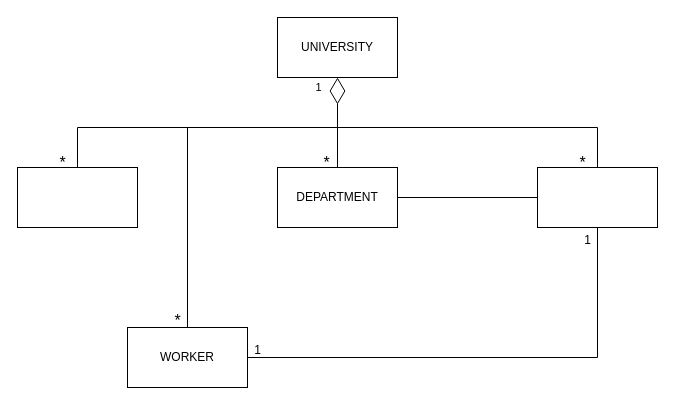
Image size: 675x405. Some labels were removed from this diagram. Here are the shapes that lost their labels. From the top down, the box of each, then its label:
(16, 166, 138, 228): CLASS
(536, 166, 658, 228): OFFICE
